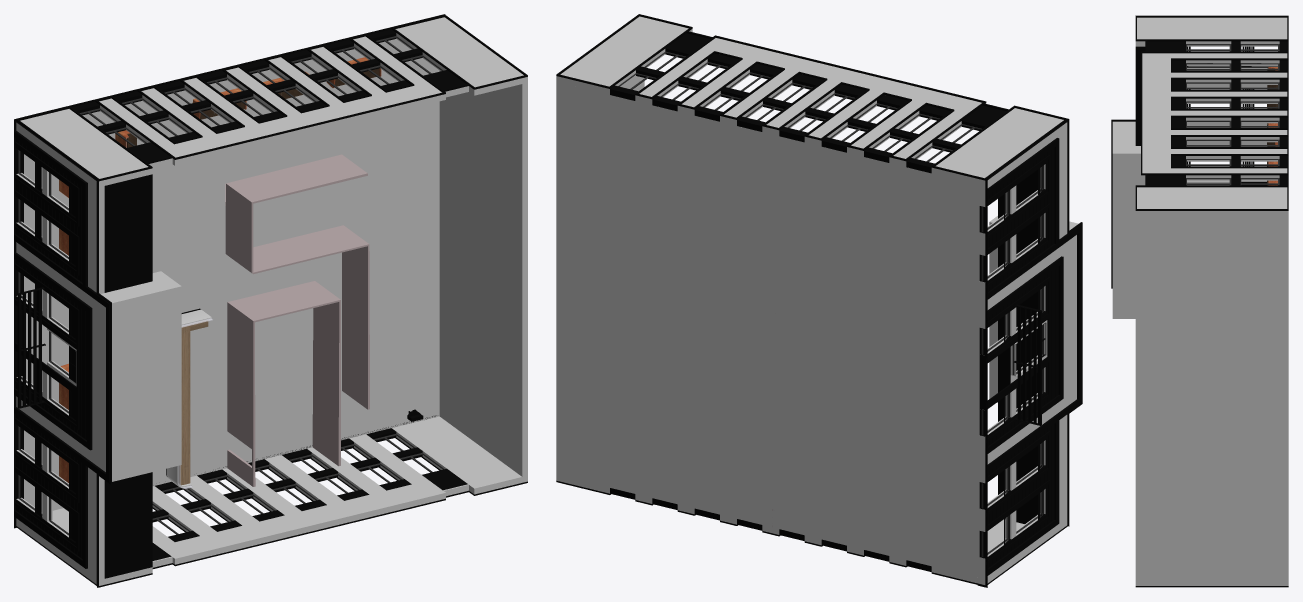
3 renders of one model, left to right at view 1: azimuth 30°, elevation 25°; view 2: azimuth 150°, elevation 25°; view 3: azimuth 270°, elevation 25°, orthographic. The views are drawn at different scales.
Parts seen in each view (by area): view 1: Office_Building.002, SUELO, Interior_Walls, Office_Building.008, Office_Building.013, Office_Building.003, Office_Building.016, Office_Building.018, Office_Building.004, Office_Building.015, Office_Building.007, Office_Building.012 (+3 smaller); view 2: SUELO, Office_Building.002, Office_Building.008, Office_Building.003, Office_Building.016, Office_Building.004, Office_Building.018, Office_Building.012, Office_Building.015, Office_Building.013, Office_Building.007, Office_Building.005 (+1 smaller); view 3: Office_Building.002, Office_Building.008, Office_Building.013, Office_Building.015, Office_Building.016, Office_Building.018.
Boxes of the visible parts, x1,y1,x2,y2 form: Office_Building.002: [23, 17, 527, 584]; SUELO: [24, 39, 439, 512]; Interior_Walls: [225, 154, 369, 486]; Office_Building.008: [15, 15, 527, 587]; Office_Building.013: [99, 271, 181, 481]; Office_Building.003: [14, 130, 109, 568]; Office_Building.016: [16, 120, 104, 585]; Office_Building.018: [104, 174, 152, 578]; Office_Building.004: [15, 138, 86, 558]; Office_Building.015: [79, 36, 444, 534]; Office_Building.007: [14, 14, 445, 528]; Office_Building.012: [17, 287, 45, 408]; SUELO: [562, 83, 979, 577]; Office_Building.002: [556, 16, 1060, 583]; Office_Building.008: [556, 14, 1082, 586]; Office_Building.003: [985, 138, 1082, 575]; Office_Building.016: [979, 119, 1067, 584]; Office_Building.004: [985, 148, 1058, 567]; Office_Building.018: [998, 169, 1037, 523]; Office_Building.012: [1013, 304, 1041, 425]; Office_Building.015: [618, 51, 981, 161]; Office_Building.013: [989, 216, 1078, 405]; Office_Building.007: [977, 176, 987, 587]; Office_Building.005: [981, 165, 1043, 557]; Office_Building.002: [1135, 19, 1288, 585]; Office_Building.008: [1111, 15, 1288, 587]; Office_Building.013: [1112, 121, 1145, 318]; Office_Building.015: [1186, 44, 1279, 185]; Office_Building.016: [1137, 17, 1287, 185]; Office_Building.018: [1135, 46, 1145, 145].
Bounding box in the file's own units: 20.31 × 17.41 × 7.4.
Materials: 28 (10 with a texture image).
